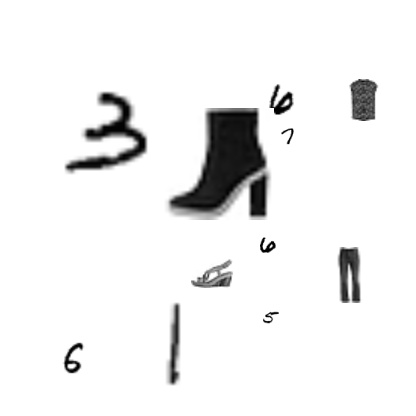1: (115, 288, 227, 400)
3: (54, 77, 166, 189)
5: (259, 306, 281, 328)
6: (51, 337, 93, 379), (259, 80, 301, 122), (256, 235, 278, 257)
7: (278, 123, 300, 145)
Ankle_boot: (162, 108, 274, 220)
Sandal: (191, 252, 233, 294)
Shirt: (342, 79, 384, 121)
Trouser: (322, 247, 378, 303)
